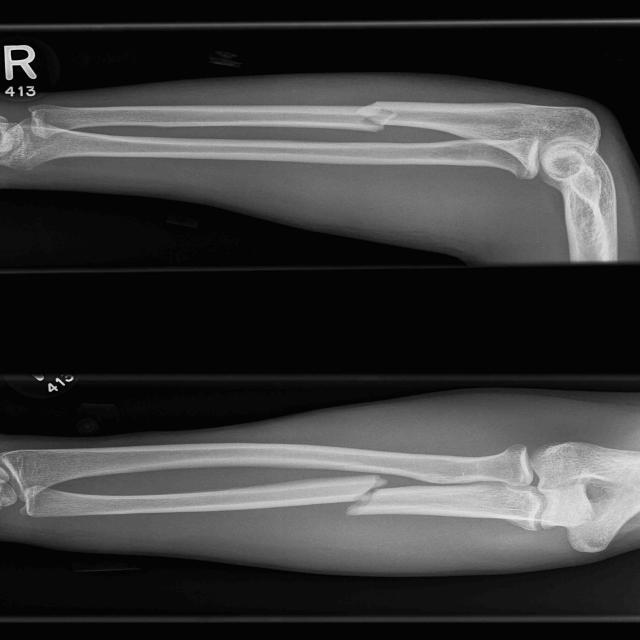bone: (322, 462, 405, 524), (344, 92, 404, 136)
